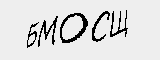Л: (7, 23, 28, 42)
П: (30, 21, 54, 42), (123, 19, 144, 37), (108, 20, 123, 38)
Ш: (82, 22, 108, 42)
Ң: (56, 22, 80, 45)
